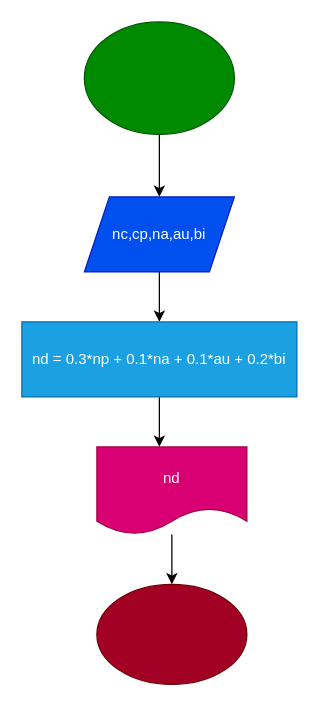
Some shapes in this 319 by 706 pixel diagram are drawn without their labels. Here are the shapes that lost their labels. From the top down, the centre of each, then its label:
At [158,77]: "INICIO".
At [171,633]: "FIN".
